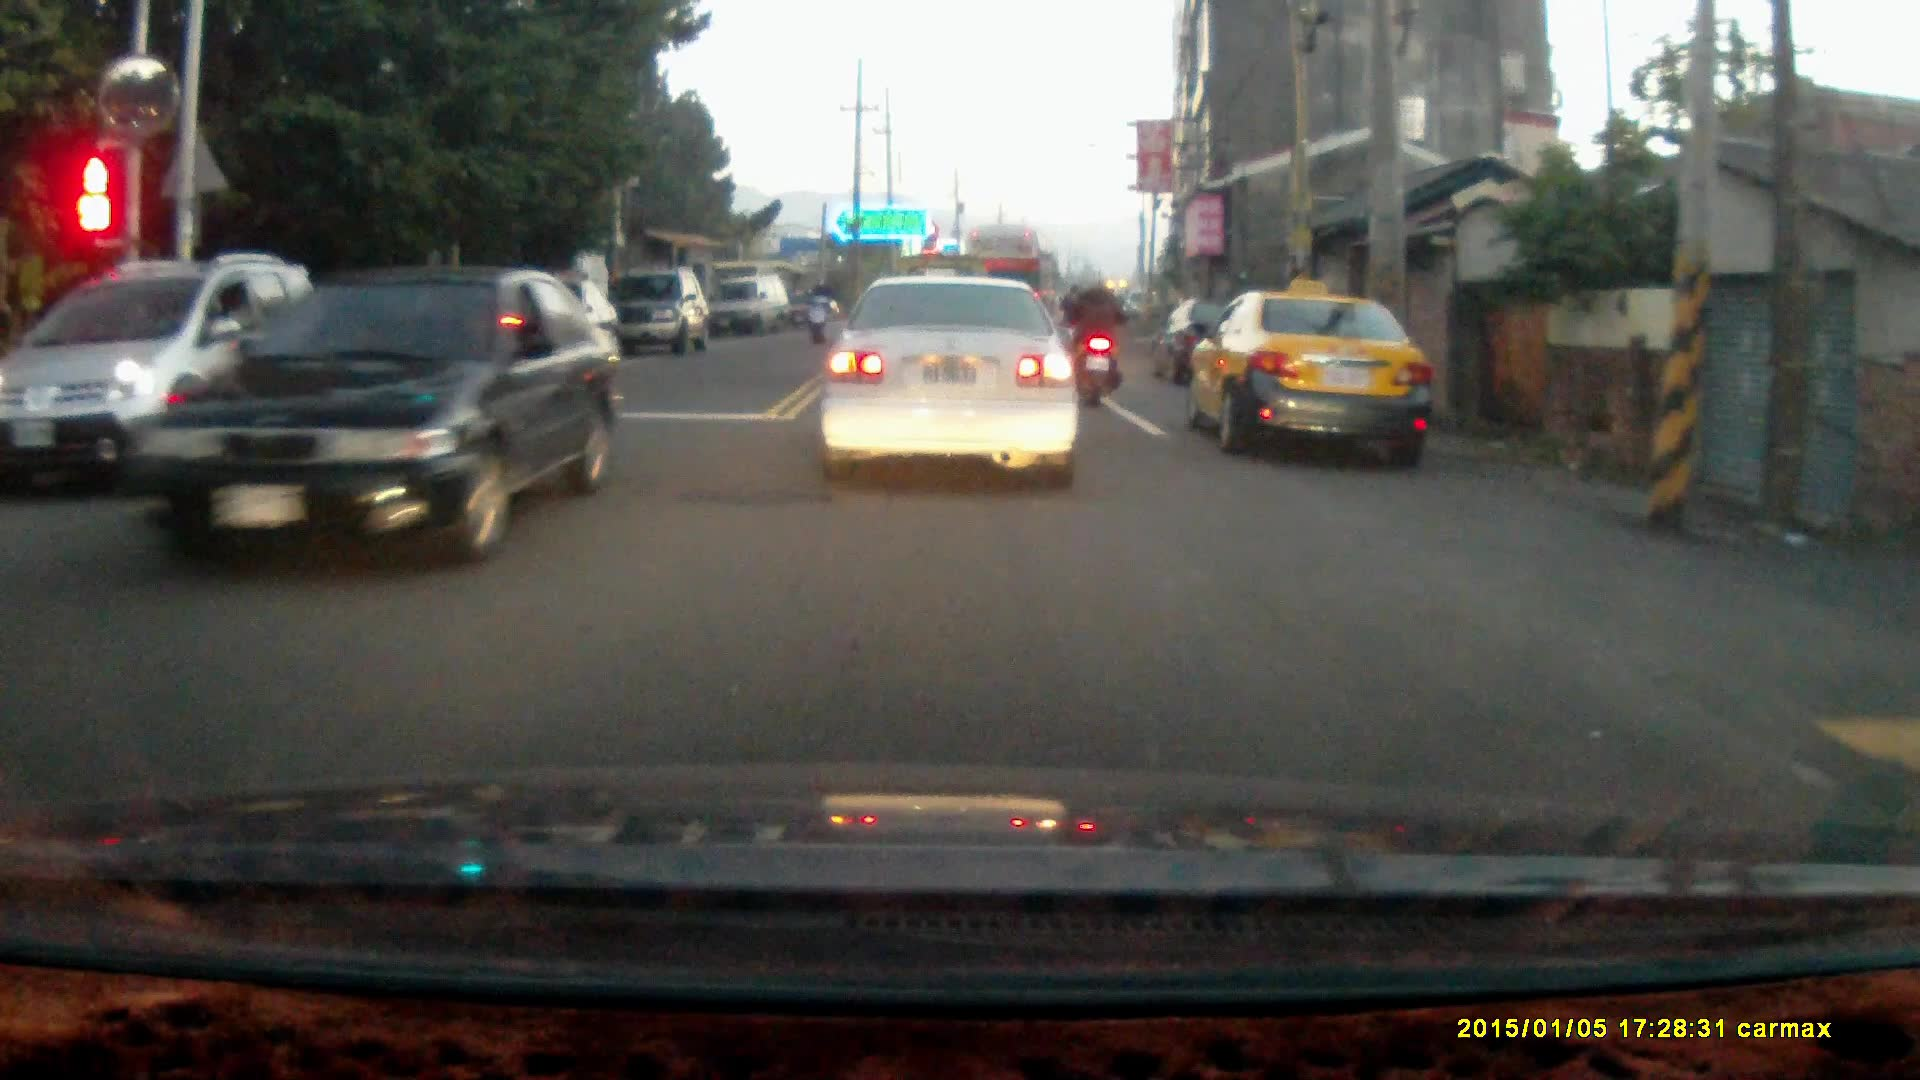rider: (1064, 263, 1127, 405), (801, 272, 835, 344)
vehicle: (117, 263, 586, 571), (818, 272, 1088, 492), (1195, 293, 1437, 464), (614, 261, 709, 356), (716, 278, 794, 336)
